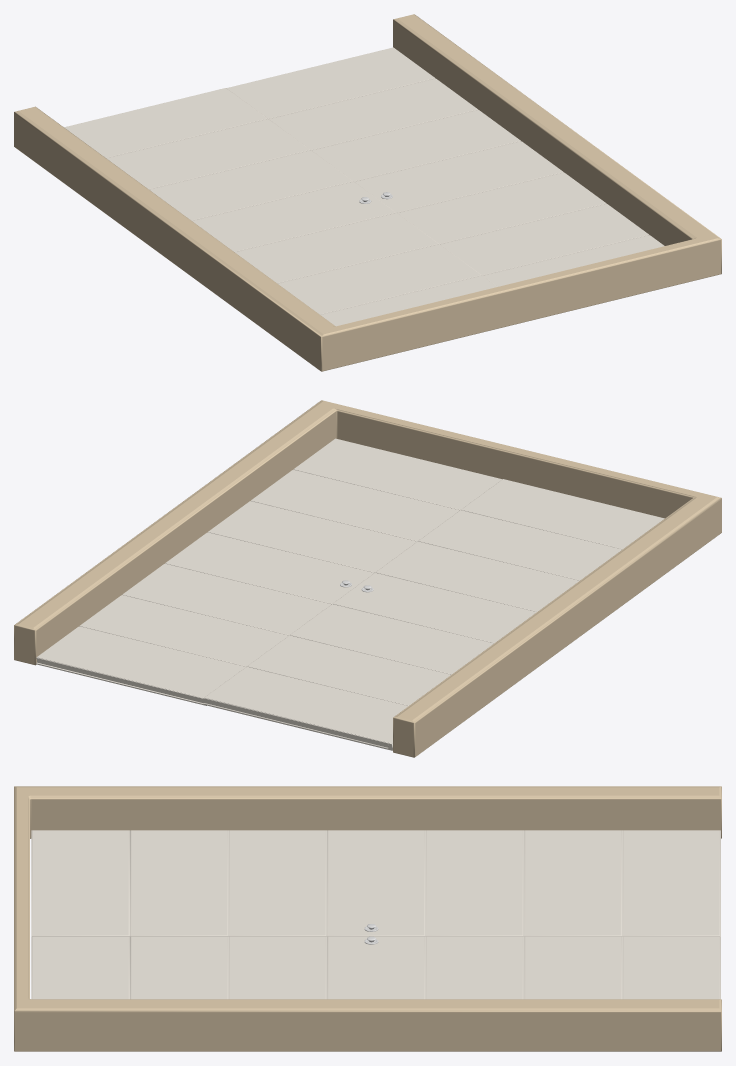
The model's file is doorMain.glb.
3 views of the same model, one above another, from view 1: azimuth 30°, elevation 25°; view 2: azimuth 150°, elevation 25°; view 3: azimuth 270°, elevation 25° (orthographic). The views are drawn at different scales.
Parts seen in each view (by area): view 1: frame, door2_1, door1_1; view 2: door2_1, door1_1, frame; view 3: door1_1, frame, door2_1.
Part boxes in pixels (x1=…): frame: x1=14, y1=14, x2=721, y2=371; door2_1: x1=226, y1=47, x2=664, y2=286; door1_1: x1=64, y1=88, x2=497, y2=326; door2_1: x1=36, y1=438, x2=501, y2=705; door1_1: x1=203, y1=479, x2=664, y2=750; frame: x1=14, y1=400, x2=721, y2=757; door1_1: x1=31, y1=830, x2=720, y2=936; frame: x1=14, y1=786, x2=721, y2=1051; door2_1: x1=31, y1=936, x2=720, y2=999.
Size of the model in its own units: 5.36 by 0.4953 by 7.11.
